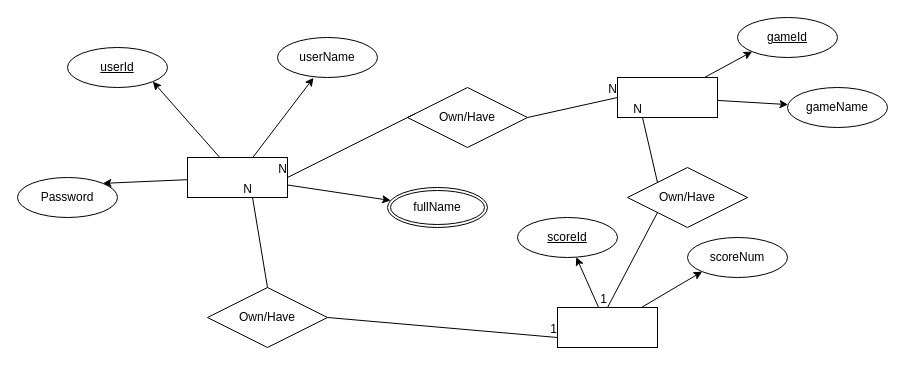
This 905x365 diagram has some shape labels left out. Each missing label, with the centre of its shape:
Game: pixel 667 97
Score: pixel 607 327
User: pixel 237 177
